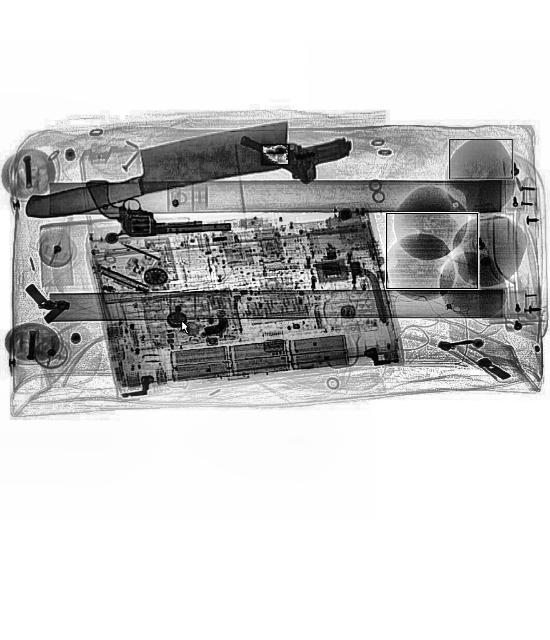Gun: (236, 92, 354, 196), (87, 175, 230, 238)
Knife: (18, 118, 296, 222)
